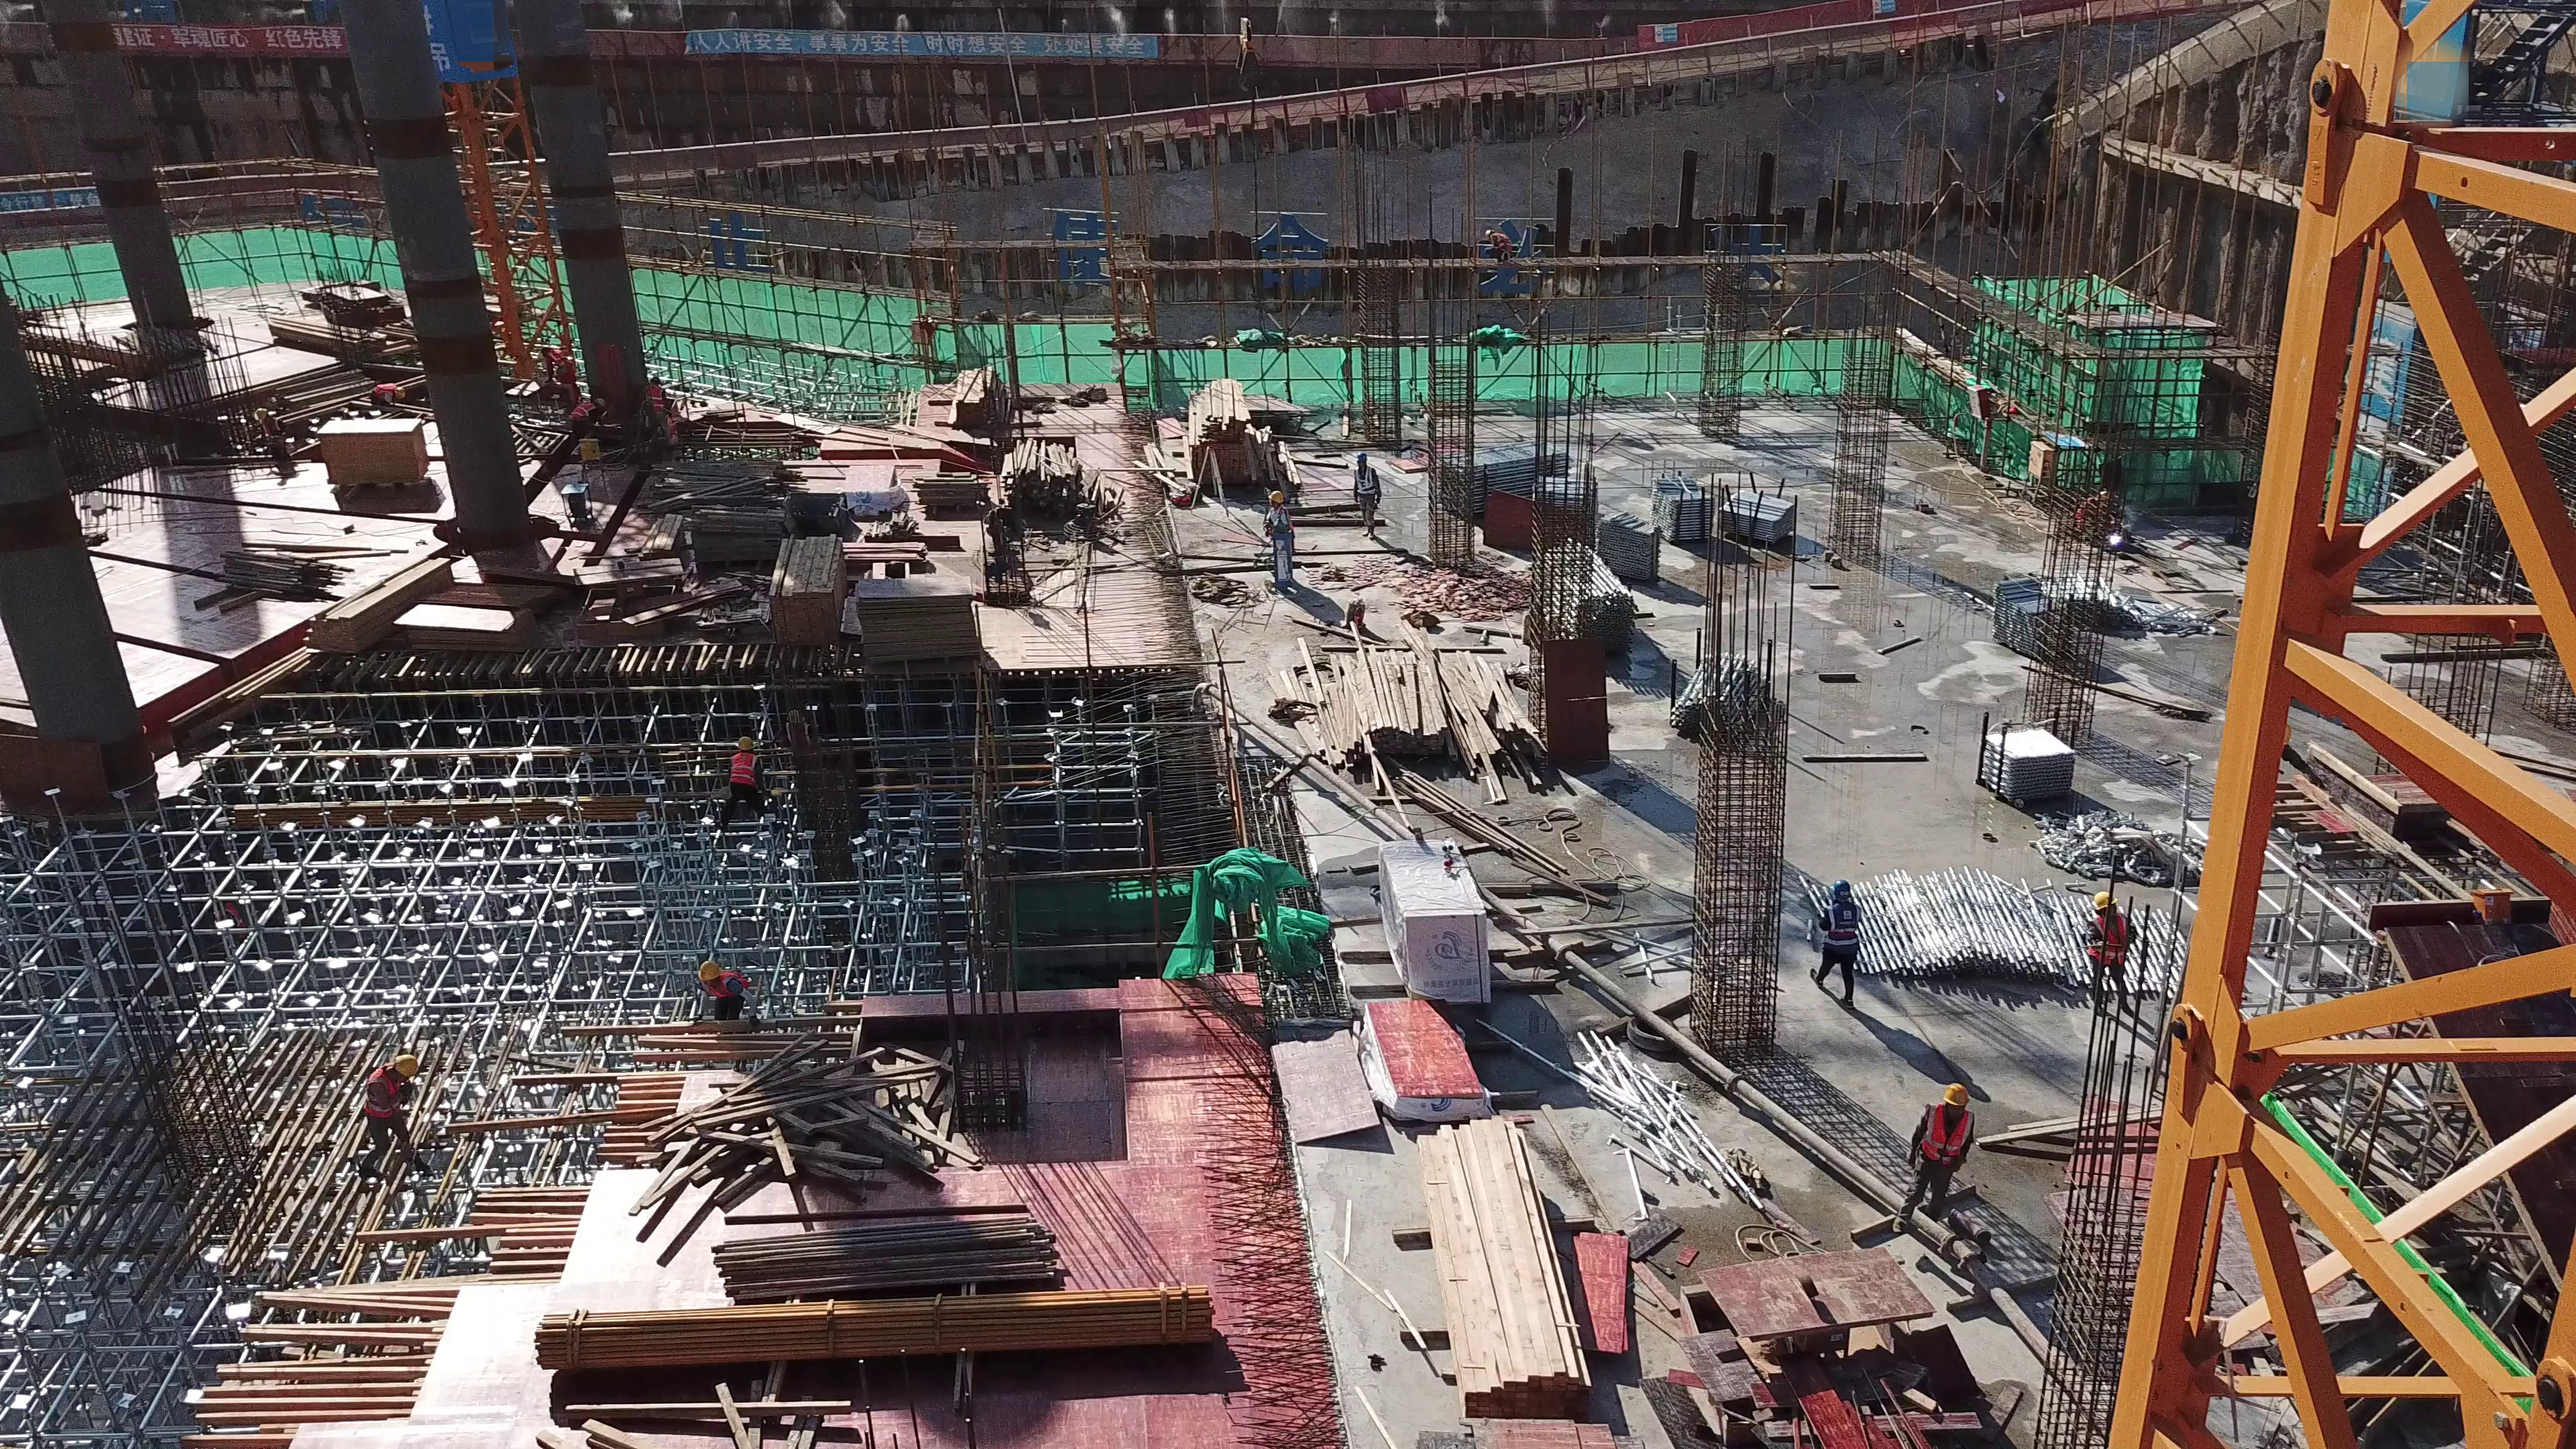board: (1380, 1003, 1472, 1104), (867, 579, 976, 651)
ebox: (579, 437, 602, 463)
fence: (1302, 1, 2054, 131), (612, 101, 1290, 167)
helmet: (1942, 1081, 1966, 1108), (2088, 893, 2111, 912), (1833, 883, 1854, 901), (737, 735, 757, 751), (1268, 490, 1284, 506), (252, 408, 268, 423), (1356, 452, 1368, 464), (395, 386, 406, 398)
person: (1892, 1073, 1970, 1238), (2073, 886, 2138, 1039), (1816, 881, 1879, 1017), (360, 1055, 425, 1179), (1256, 480, 1298, 587), (717, 737, 767, 828), (700, 959, 754, 1020), (1352, 449, 1381, 538), (637, 375, 672, 447), (541, 345, 572, 396), (574, 400, 608, 433), (367, 378, 402, 407), (1482, 228, 1511, 266)
scaffold: (1871, 883, 2055, 977), (1432, 437, 1590, 521), (1546, 545, 1633, 663), (1671, 655, 1786, 745), (2051, 810, 2181, 876), (1974, 720, 2076, 798), (1715, 486, 1805, 553), (1989, 578, 2064, 655), (1597, 511, 1664, 584), (1650, 473, 1719, 542)
slogan: (652, 172, 1588, 305), (655, 21, 1152, 67), (95, 26, 347, 60)
vest: (1923, 1100, 1966, 1167), (2092, 914, 2127, 968), (1823, 902, 1860, 953), (730, 752, 761, 788), (1353, 468, 1379, 497), (645, 384, 665, 417), (370, 380, 397, 405), (570, 402, 596, 420), (548, 350, 566, 372), (787, 708, 805, 725)
wood: (519, 1300, 1199, 1371), (1423, 1121, 1581, 1414), (685, 1073, 942, 1196), (1292, 644, 1515, 769), (705, 1225, 1030, 1289), (662, 460, 791, 551), (1185, 392, 1283, 490), (767, 539, 837, 640)
